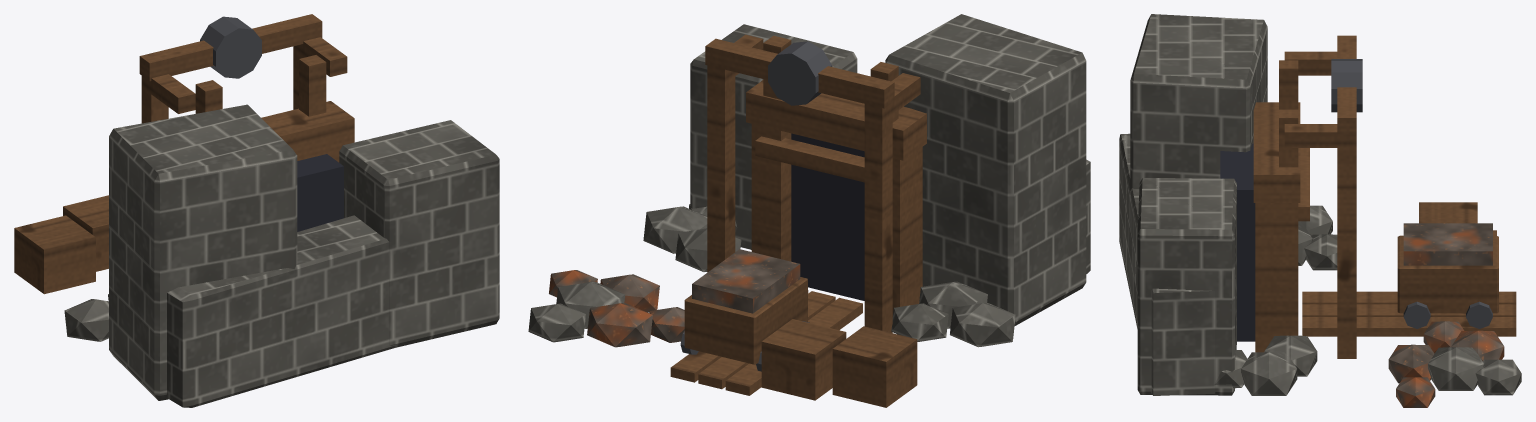
File: mine.gltf
3 views of the same model, side by side, from view 1: azimuth 30°, elevation 25°; view 2: azimuth 150°, elevation 25°; view 3: azimuth 270°, elevation 25° (orthographic). The views are drawn at different scales.
Visible parts, largest first — view 1: Mine; view 2: Mine; view 3: Mine.
Boxes of the visible parts, x1,y1,x2,y2 form: Mine: (14,14,499,407); Mine: (528,14,1090,407); Mine: (1119,14,1521,407).
Bounding box in the file's own units: 2.26 × 1.47 × 2.07.
7 materials, 5 textured.
